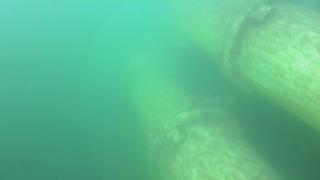pipe: (165, 1, 320, 135), (129, 51, 286, 180)
